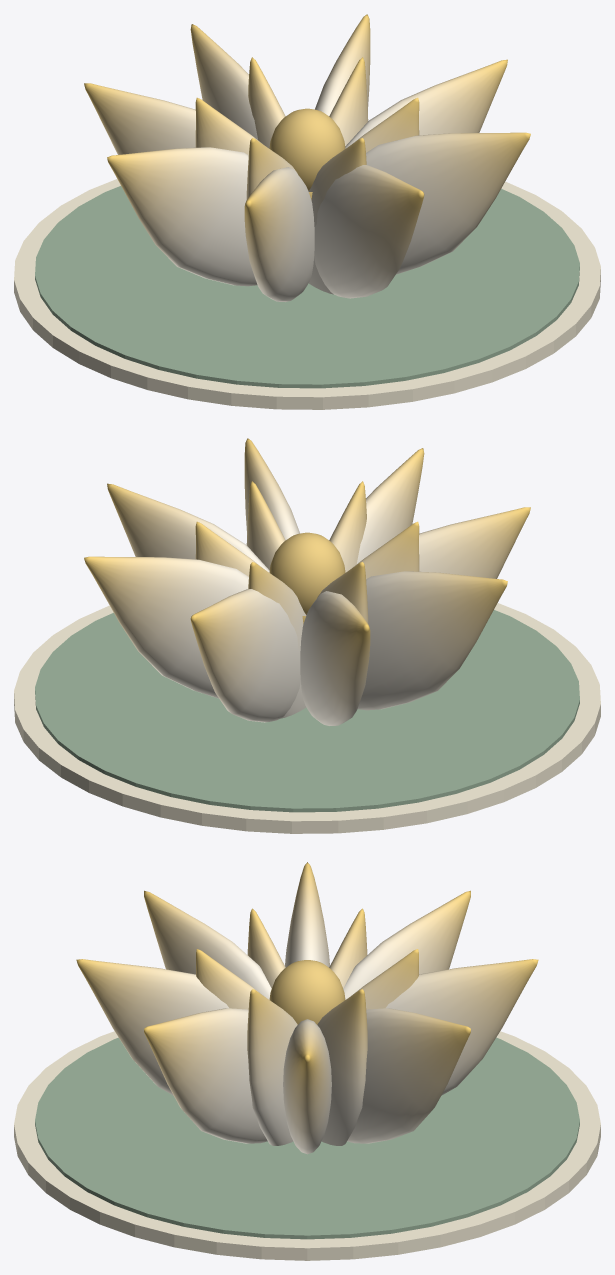
Rendered from bell2.glb.
3 renders of one model, top to bottom at view 1: azimuth 30°, elevation 25°; view 2: azimuth 150°, elevation 25°; view 3: azimuth 270°, elevation 25°, orthographic.
Visible parts, largest first — view 1: pad, pad-rim, outer4, outer7, outer6, outer5, outer3, outer0, outer2, bell, outer1, inner2 (+5 smaller); view 2: pad, pad-rim, outer4, outer1, outer2, outer3, outer5, outer0, outer6, bell, outer7, inner3 (+5 smaller); view 3: pad, pad-rim, outer1, outer7, outer6, outer2, inner5, inner0, outer0, outer3, outer5, bell (+5 smaller).
Boxes of the visible parts, x1,y1,x2,y2 form: pad: [35, 186, 579, 388]; pad-rim: [14, 179, 600, 409]; outer4: [107, 147, 257, 286]; outer7: [366, 132, 530, 274]; outer6: [314, 165, 424, 298]; outer5: [244, 167, 314, 301]; outer3: [84, 83, 195, 154]; outer0: [345, 59, 507, 148]; outer2: [190, 24, 257, 139]; bell: [269, 108, 345, 190]; outer1: [315, 14, 370, 115]; inner2: [195, 97, 262, 155]; pad: [35, 610, 579, 812]; pad-rim: [14, 603, 600, 833]; outer4: [357, 571, 507, 710]; outer1: [84, 556, 248, 698]; outer2: [190, 589, 300, 722]; outer3: [300, 591, 370, 725]; outer5: [419, 507, 530, 578]; outer0: [107, 483, 269, 572]; outer6: [357, 448, 424, 563]; bell: [269, 532, 345, 614]; outer7: [244, 438, 299, 539]; inner3: [352, 521, 419, 579]; pad: [35, 1037, 579, 1239]; pad-rim: [14, 1031, 600, 1260]; outer1: [347, 1008, 470, 1143]; outer7: [144, 1008, 267, 1143]; outer6: [76, 959, 228, 1095]; outer2: [386, 959, 538, 1095]; inner5: [247, 989, 297, 1145]; inner0: [317, 989, 367, 1145]; outer0: [283, 1019, 331, 1154]; outer3: [343, 890, 470, 999]; outer5: [144, 890, 271, 999]; bell: [269, 960, 345, 1024].
Bounding box in the file's own units: 0.084 × 0.0327 × 0.084.
